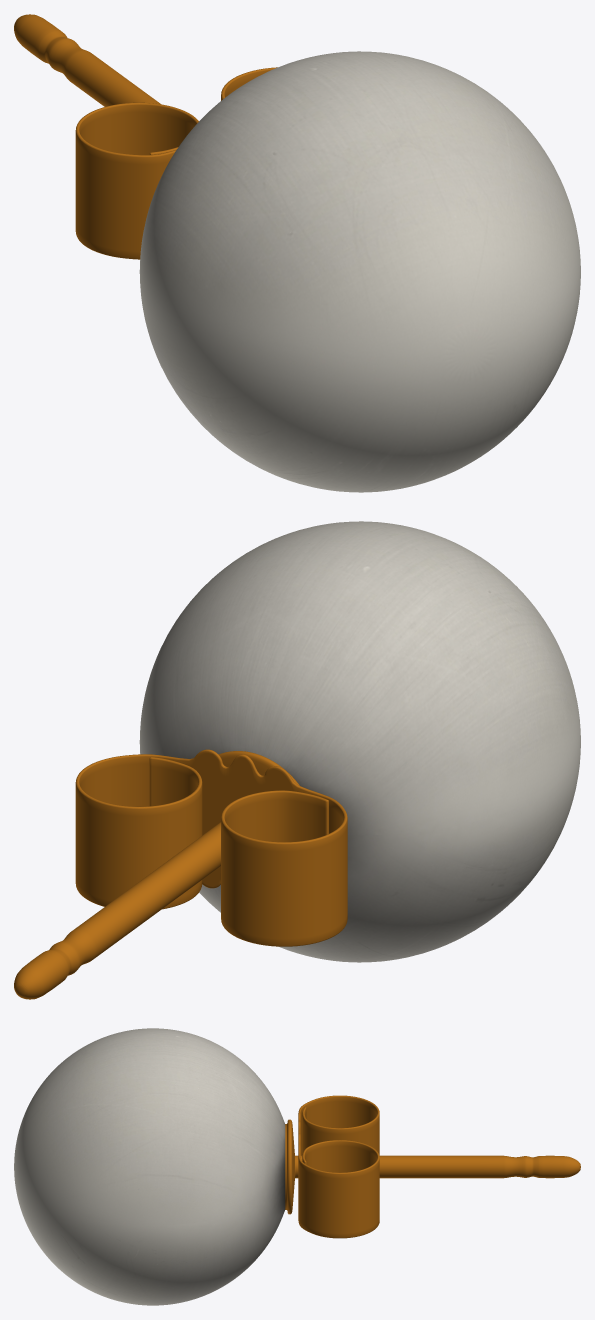
Rendered from 11757_Earings_v1_L2.obj.
The picture shows the model from 3 angles, top to bottom: view 1: azimuth 30°, elevation 25°; view 2: azimuth 150°, elevation 25°; view 3: azimuth 270°, elevation 25°; orthographic projection. The views are drawn at different scales.
Visible parts, largest first — view 1: pearl, gold; view 2: pearl, gold; view 3: pearl, gold.
Part boxes in pixels (x1,y1,x2,y2): pearl: [139, 51, 580, 492]; gold: [14, 14, 277, 259]; pearl: [139, 521, 580, 962]; gold: [14, 749, 347, 999]; pearl: [14, 1028, 285, 1305]; gold: [285, 1095, 580, 1238].
Size of the model in its own units: 3.98 by 3.98 by 8.15.
2 materials, 1 textured.
